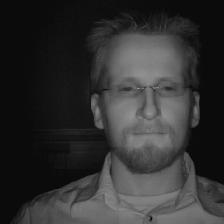normal: (76, 11, 215, 178)
